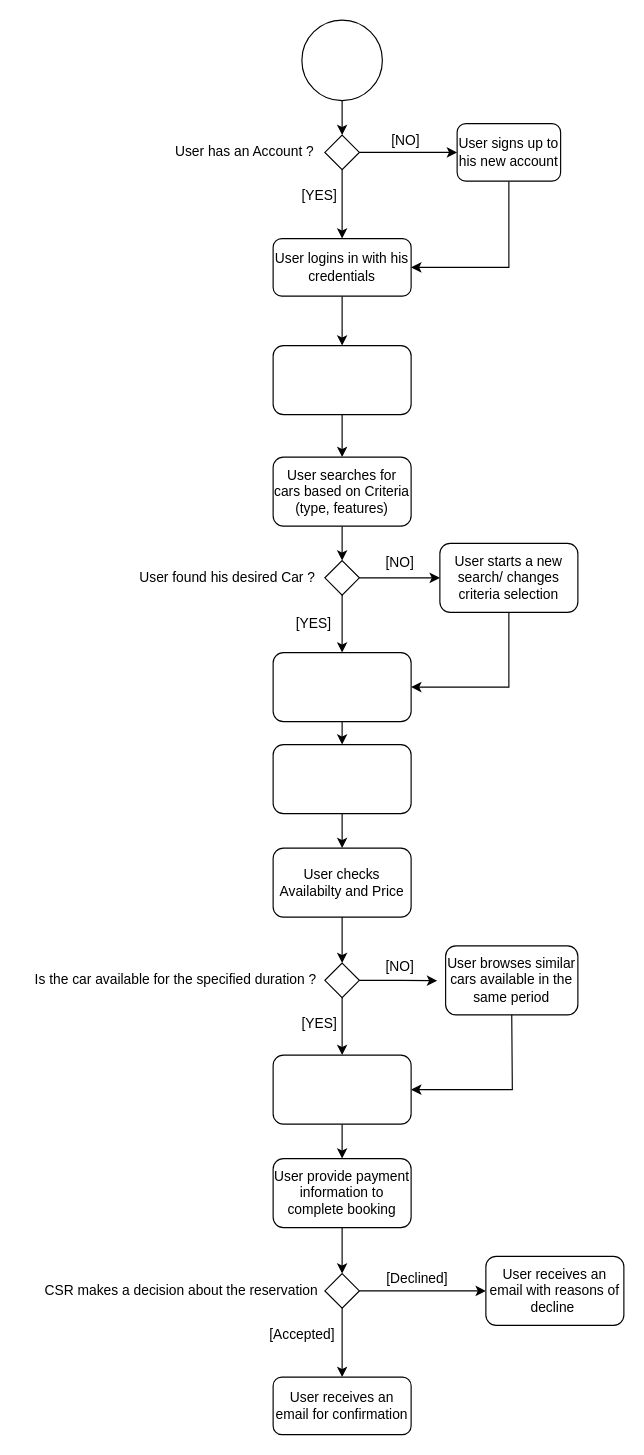
Image size: 644x1455. Some labels were removed from this diagram. Here are the shapes that lost their labels. From the top down, the centre of each, then its label:
At pixel 341 60: "User decides to book a Vehicle".
At pixel 341 379: "User finds the nearest branch by searching with postal code".
At pixel 341 686: "User selects his desired Vehicle to view details".
At pixel 341 778: "User chooses rental options: duration, pick-up, drop-off ..".
At pixel 341 1089: "User reviews booking details and pricing".
